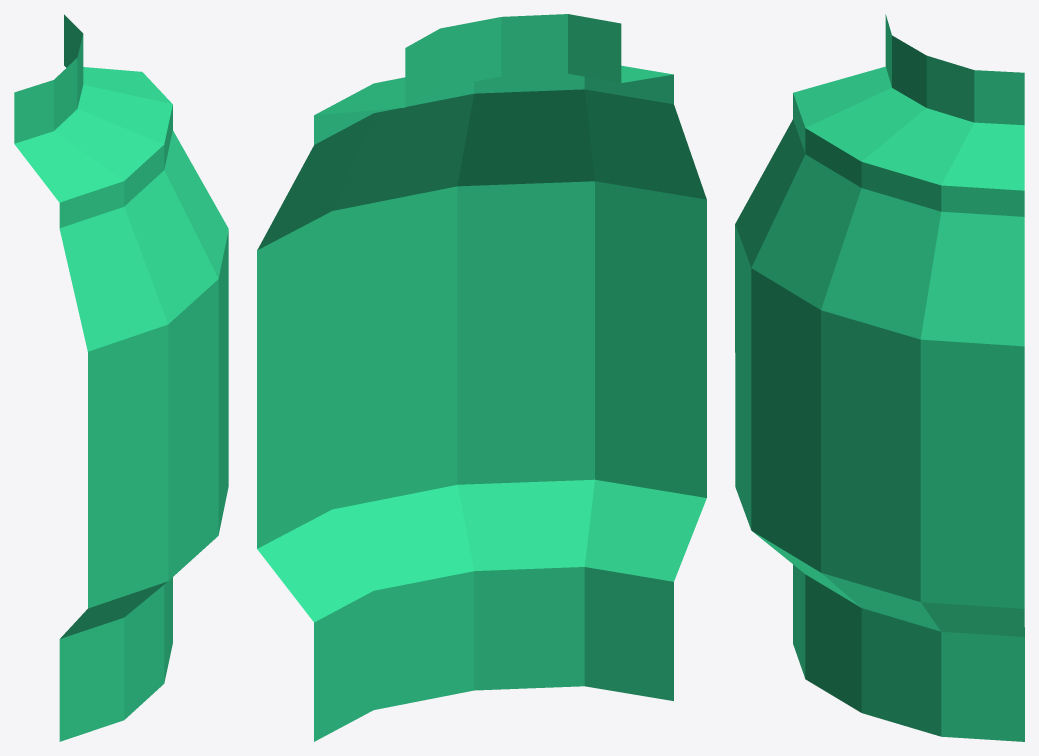
The model's file is ColCornerInAlt.fbx.
3 renders of one model, left to right at view 1: azimuth 30°, elevation 25°; view 2: azimuth 150°, elevation 25°; view 3: azimuth 270°, elevation 25°, orthographic. The views are drawn at different scales.
Visible parts, largest first — view 1: ColCornerInAlt; view 2: ColCornerInAlt; view 3: ColCornerInAlt.
Part boxes in pixels (x1,y1,x2,y2): ColCornerInAlt: (14, 14, 228, 741); ColCornerInAlt: (257, 14, 706, 741); ColCornerInAlt: (735, 14, 1024, 741).
Size of the model in its own units: 125 by 300 by 125.
